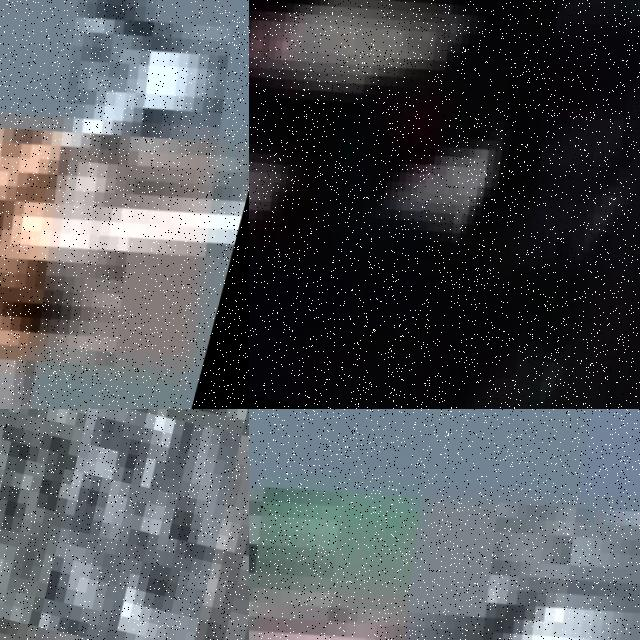0: (0, 0, 249, 409), (249, 409, 640, 640)
drone: (249, 0, 640, 409)
